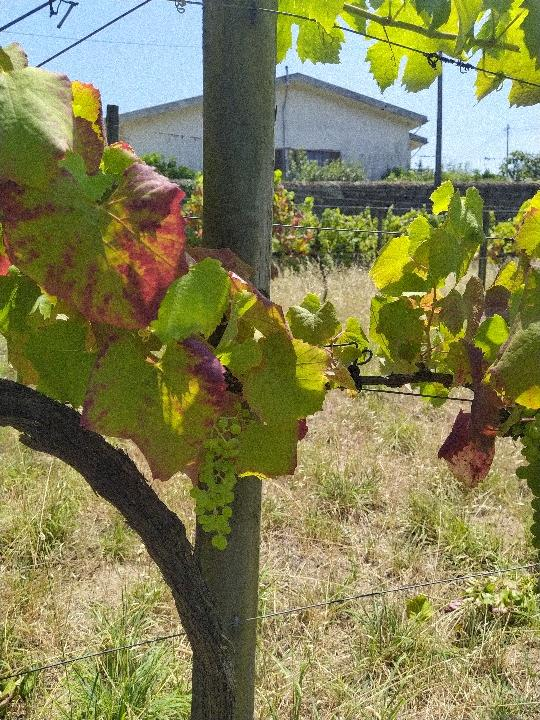grape: (188, 400, 246, 551)
